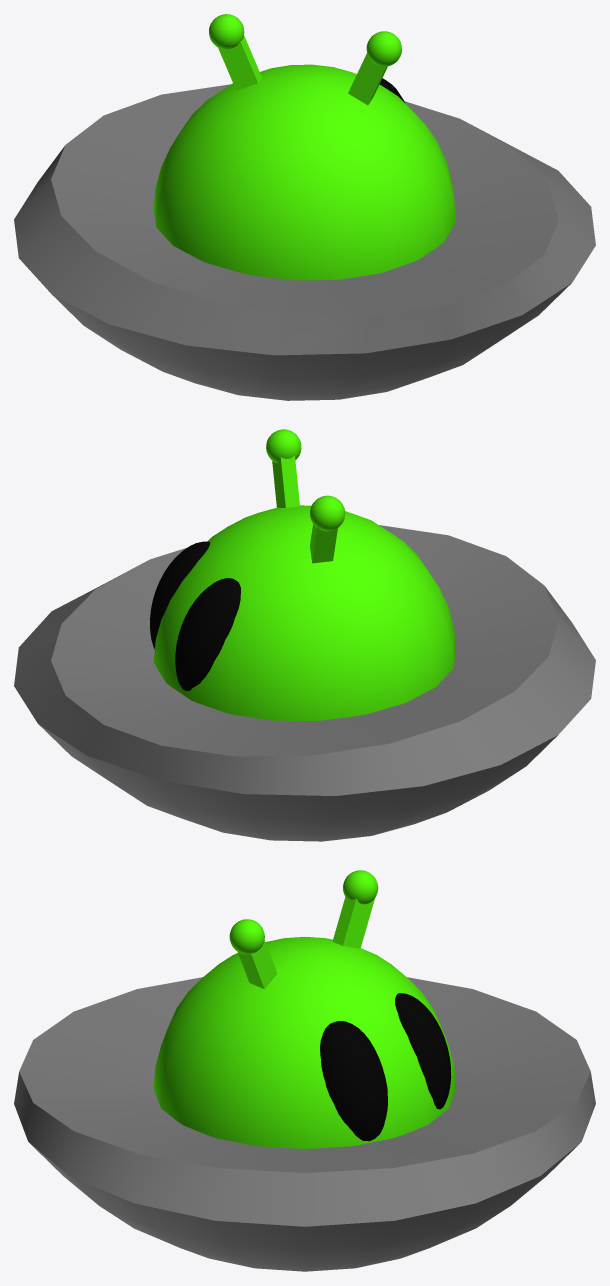
The model's file is Alien1.fbx.
The picture shows the model from 3 angles, top to bottom: view 1: azimuth 30°, elevation 25°; view 2: azimuth 150°, elevation 25°; view 3: azimuth 270°, elevation 25°; orthographic projection.
Visible parts, largest first — view 1: pSphere5; view 2: pSphere5; view 3: pSphere5.
Boxes of the visible parts, x1=… form: pSphere5: x1=14, y1=14, x2=595, y2=400; pSphere5: x1=14, y1=429, x2=595, y2=841; pSphere5: x1=14, y1=870, x2=595, y2=1271.
Bounding box in the file's own units: 3.85 × 2.49 × 3.85.
